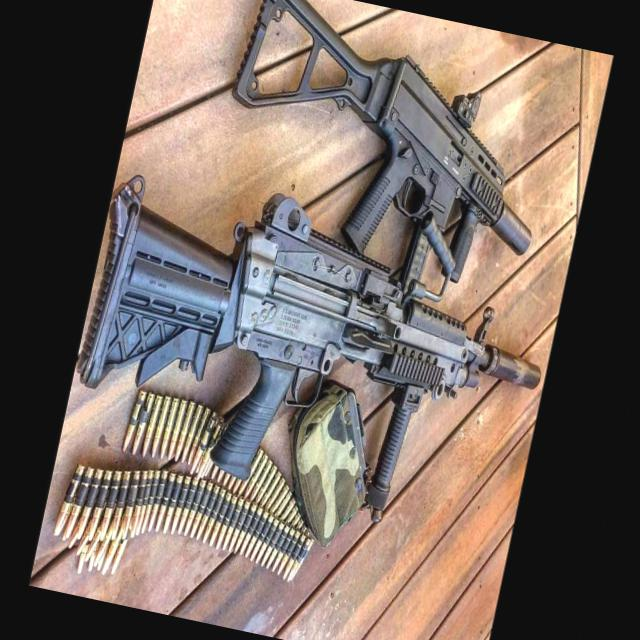long weapon: (48, 135, 580, 540), (184, 0, 580, 315)
